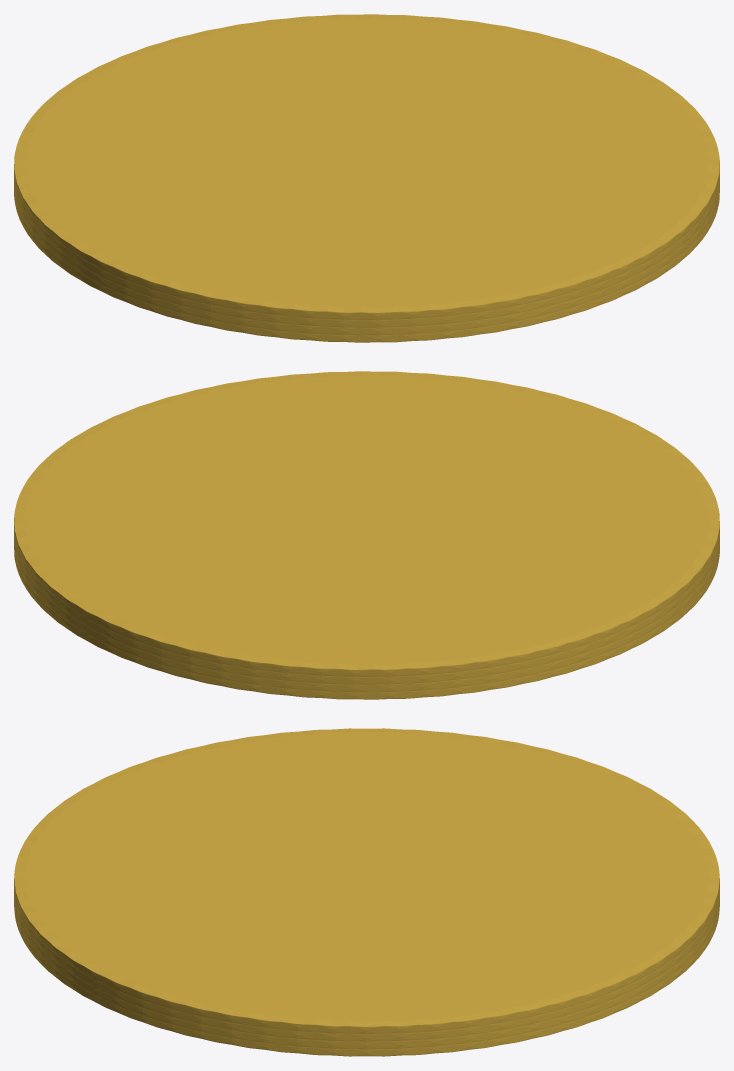
Rendered from COIN.fbx.
3 views of the same model, one above another, from view 1: azimuth 30°, elevation 25°; view 2: azimuth 150°, elevation 25°; view 3: azimuth 270°, elevation 25° (orthographic).
Visible parts, largest first — view 1: Cylinder; view 2: Cylinder; view 3: Cylinder.
Part boxes in pixels (bbox=[...]): Cylinder: bbox=[14, 14, 719, 342]; Cylinder: bbox=[14, 371, 719, 699]; Cylinder: bbox=[14, 728, 719, 1056].
Size of the model in its own units: 200 by 9.6 by 200.
